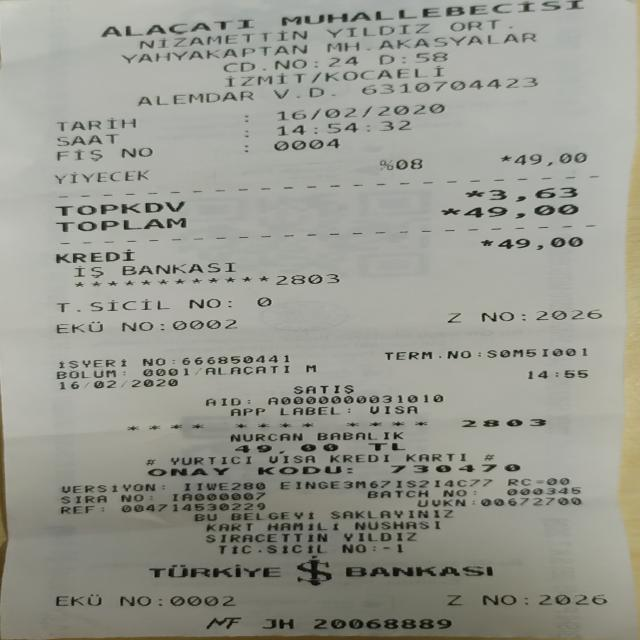text: (276, 0, 586, 26), (220, 65, 446, 87), (120, 44, 310, 63), (134, 29, 310, 49), (358, 77, 538, 95), (96, 18, 256, 38), (374, 32, 537, 50), (274, 104, 444, 121), (277, 478, 493, 489), (440, 204, 580, 220), (273, 120, 411, 136), (71, 276, 269, 287), (54, 217, 188, 232), (267, 394, 442, 405), (54, 202, 186, 216), (132, 91, 255, 106), (140, 365, 290, 377), (140, 354, 288, 366), (464, 187, 576, 202), (416, 497, 580, 507), (325, 23, 433, 38), (120, 262, 235, 276), (478, 309, 601, 322), (148, 564, 280, 576), (120, 319, 237, 332), (312, 618, 450, 629), (54, 299, 170, 312), (52, 168, 152, 183), (345, 566, 491, 576), (120, 502, 265, 512), (445, 348, 589, 358), (479, 594, 608, 605), (480, 237, 587, 250), (498, 152, 589, 167), (221, 59, 317, 73), (58, 378, 178, 389), (120, 595, 233, 606), (330, 509, 452, 519), (205, 532, 326, 542), (51, 249, 137, 263), (55, 117, 139, 131), (391, 463, 519, 472), (233, 443, 338, 453), (61, 483, 165, 493), (374, 51, 450, 64), (353, 520, 441, 530), (272, 138, 339, 151), (459, 418, 545, 428), (171, 492, 265, 501), (274, 273, 339, 286), (315, 431, 404, 440), (54, 134, 120, 146), (446, 19, 510, 31), (229, 511, 314, 520), (257, 466, 352, 474), (228, 432, 302, 442), (169, 456, 251, 465), (344, 532, 416, 542), (53, 369, 124, 379), (180, 483, 266, 491), (272, 87, 334, 98), (145, 468, 229, 476), (278, 406, 350, 415), (266, 522, 338, 531), (124, 423, 203, 431), (57, 359, 126, 368), (52, 321, 103, 333), (54, 149, 104, 161), (506, 487, 581, 495), (54, 594, 103, 606), (340, 544, 404, 553), (365, 489, 428, 498), (265, 544, 328, 553), (382, 350, 432, 361), (526, 369, 587, 378), (292, 385, 353, 394), (328, 454, 388, 463), (405, 453, 464, 462), (322, 41, 368, 52), (378, 159, 424, 170), (507, 478, 569, 486), (234, 422, 314, 428), (186, 298, 232, 308), (368, 405, 416, 414), (267, 455, 315, 464), (345, 421, 426, 426), (72, 266, 105, 278), (118, 147, 153, 158), (204, 523, 252, 531), (203, 398, 249, 406), (60, 495, 106, 503), (326, 56, 359, 67), (216, 544, 252, 554), (205, 618, 240, 628), (59, 506, 103, 513), (368, 442, 404, 450), (262, 619, 294, 628), (228, 408, 266, 415), (440, 489, 476, 496), (119, 494, 152, 501), (444, 594, 463, 606), (444, 312, 462, 324), (193, 514, 217, 522), (254, 297, 270, 306), (240, 144, 251, 154), (303, 365, 316, 372), (241, 114, 251, 123), (145, 458, 156, 465), (242, 129, 250, 138), (484, 455, 493, 460)
